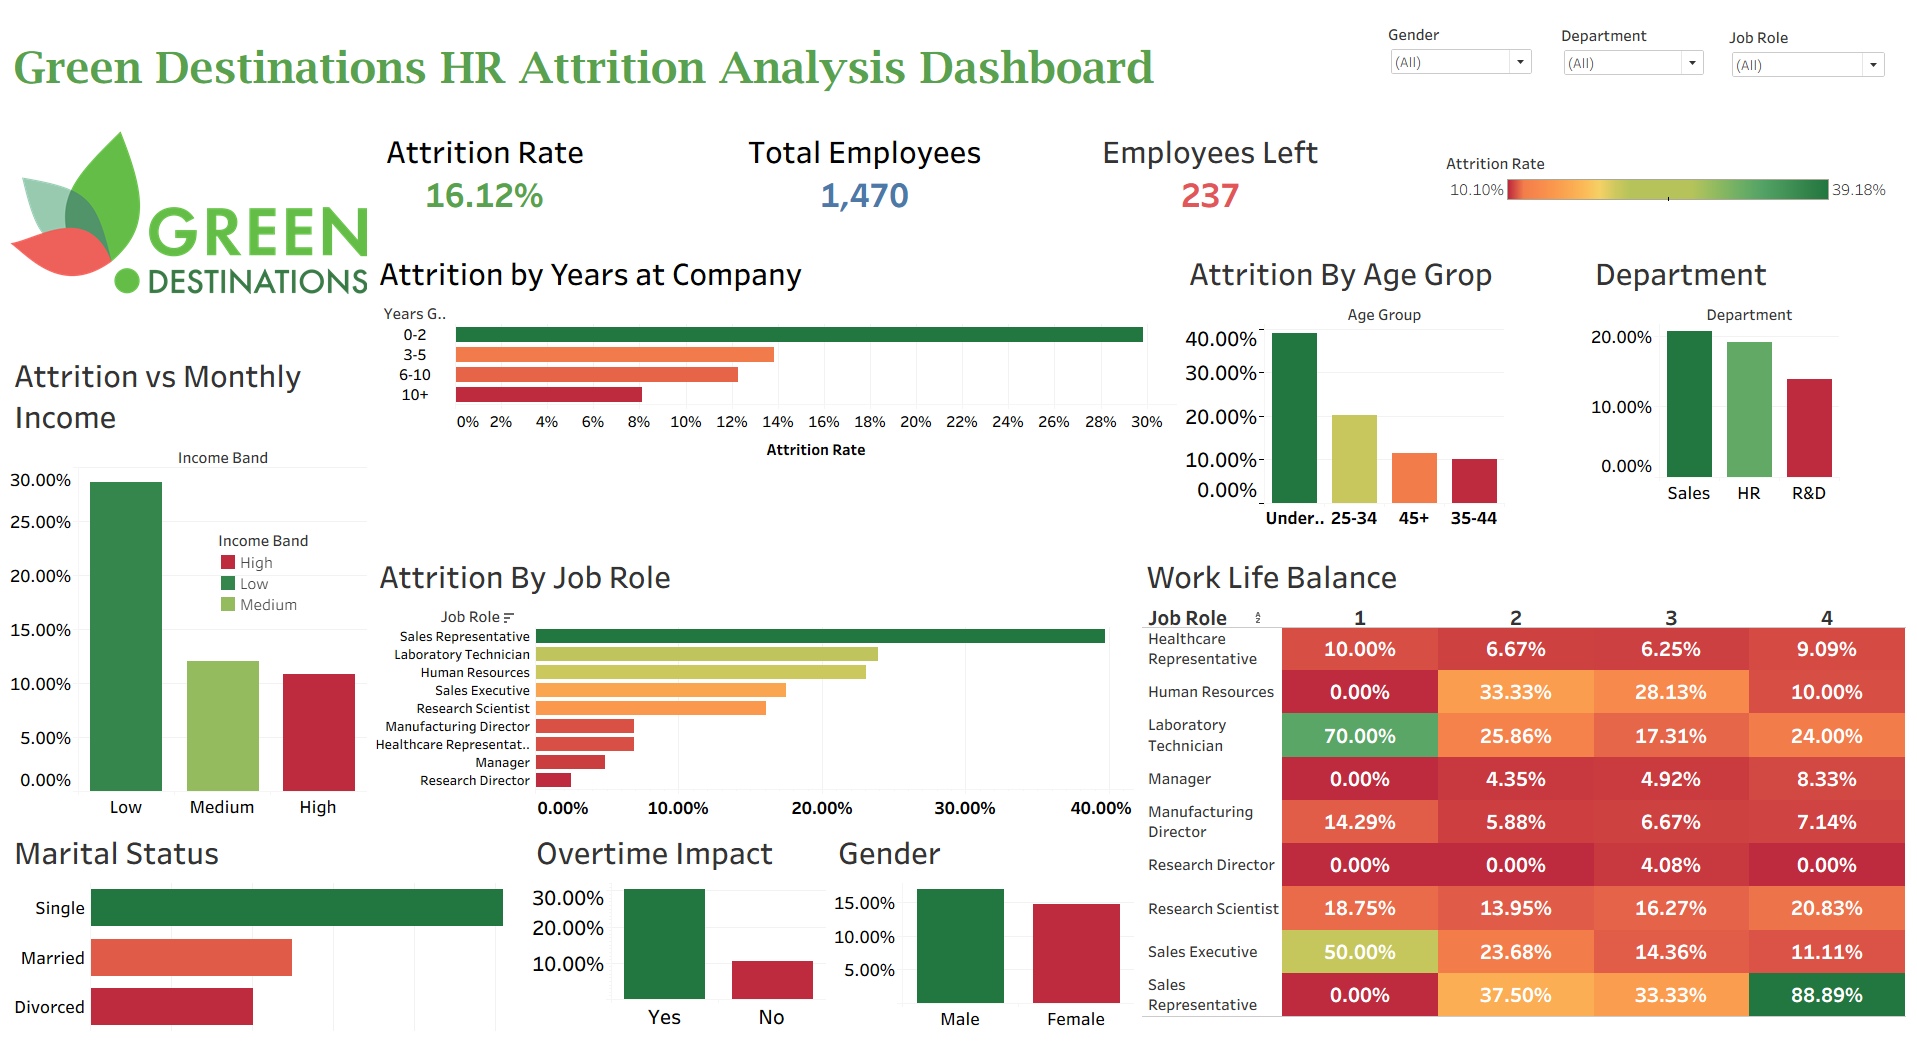

The page's visual inventory and layout, read from the dashboard file:
{"tool":"tableau","page":{"name":"HR Attrition Dashboard","canvas":[1000,1000],"units":"permille","ordinal":1},"visuals":[{"type":"title","box":[4.8,8.8,990.3,130.6]},{"type":"filter","title":"Gender","param":"[federated.0qfj9t81hw5vhv1h3j6t508nj0b1].[none:Gender:nk]","box":[724.2,23.1,76.6,58.2]},{"type":"filter","title":"Department","param":"[federated.0qfj9t81hw5vhv1h3j6t508nj0b1].[none:Department:nk]","box":[814.1,24.2,76,56]},{"type":"filter","title":"Attrition By job Role","param":"[federated.0qfj9t81hw5vhv1h3j6t508nj0b1].[none:JobRole:nk]","box":[901.6,26.3,82.7,53.8]},{"type":"image","param":"Image/greendestination+logo.png","box":[4.8,139.4,190,205.2]},{"type":"worksheet","title":"KPI","mark":"Text","box":[194.9,139.4,187,109.6]},{"type":"worksheet","title":"KPI2","mark":"Automatic","box":[381.9,139.4,164.2,109.6]},{"type":"worksheet","title":"KPI3","mark":"Automatic","box":[546,139.4,449.2,109.6]},{"type":"legend","title":"Attretion By Age Group","param":"[federated.0qfj9t81hw5vhv1h3j6t508nj0b1].[usr:Calculation_1761750358994945:qk]","box":[754.4,147.1,231.7,69.2]},{"type":"worksheet","title":"Attrition by Years","mark":"Automatic","rows":["Calculation_0765318231932928"],"cols":["Calculation_1761750358994945"],"box":[194.9,249,421.2,284.4]},{"type":"worksheet","title":"Attretion By Age Group","mark":"Automatic","rows":["Calculation_1761750358994945"],"cols":["Calculation_1761750359670786"],"box":[616.1,249,211.2,284.4]},{"type":"worksheet","title":"Department","mark":"Automatic","rows":["Calculation_1761750358994945"],"cols":["Department"],"box":[827.3,249,167.8,284.4]},{"type":"worksheet","title":"Attrition vs Monthly Income","mark":"Bar","rows":["Calculation_1761750358994945"],"cols":["Calculation_1761750359961603"],"box":[4.8,344.6,190,447.4]},{"type":"legend","title":"Attrition vs Monthly Income","param":"[federated.0qfj9t81hw5vhv1h3j6t508nj0b1].[none:Calculation_1761750359961603:nk]","box":[114.7,508.2,69.4,93.3]},{"type":"worksheet","title":"Attrition By job Role","mark":"Automatic","rows":["JobRole"],"cols":["Calculation_1761750358994945"],"box":[194.9,533.5,398.9,258.5]},{"type":"worksheet","title":"Work Life Balance","mark":"Square","rows":["JobRole"],"cols":["WorkLifeBalance"],"box":[593.8,533.5,401.4,457.8]},{"type":"worksheet","title":"Marital Status","mark":"Bar","rows":["MaritalStatus"],"cols":["Calculation_1761750358994945"],"box":[4.8,792,271.4,199.2]},{"type":"worksheet","title":"Overtime Impact","mark":"Automatic","rows":["Calculation_1761750358994945"],"cols":["OverTime"],"box":[276.2,792,157.2,199.2]},{"type":"worksheet","title":"Gender","mark":"Automatic","rows":["Calculation_1761750358994945"],"cols":["Gender"],"box":[433.4,792,160.4,199.2]}]}

Visuals, with their boxes on the dashboard's canvas, which has no fixed pixel size, in thousandths of its width and height (x1, y1, x2, y2). These are canvas units, not pixel positions in the 1917x1043 screenshot, which may show the page scaled, cropped or inside an application window:
title: 5,9,995,139
"Gender" filter: 724,23,801,81
"Department" filter: 814,24,890,80
"Attrition By job Role" filter: 902,26,984,80
image: 5,139,195,345
"KPI" worksheet (Text marks): 195,139,382,249
"KPI2" worksheet: 382,139,546,249
"KPI3" worksheet: 546,139,995,249
"Attretion By Age Group" legend: 754,147,986,216
"Attrition by Years" worksheet: 195,249,616,533
"Attretion By Age Group" worksheet: 616,249,827,533
"Department" worksheet: 827,249,995,533
"Attrition vs Monthly Income" worksheet (Bar marks): 5,345,195,792
"Attrition vs Monthly Income" legend: 115,508,184,602
"Attrition By job Role" worksheet: 195,534,594,792
"Work Life Balance" worksheet (Square marks): 594,534,995,991
"Marital Status" worksheet (Bar marks): 5,792,276,991
"Overtime Impact" worksheet: 276,792,433,991
"Gender" worksheet: 433,792,594,991
